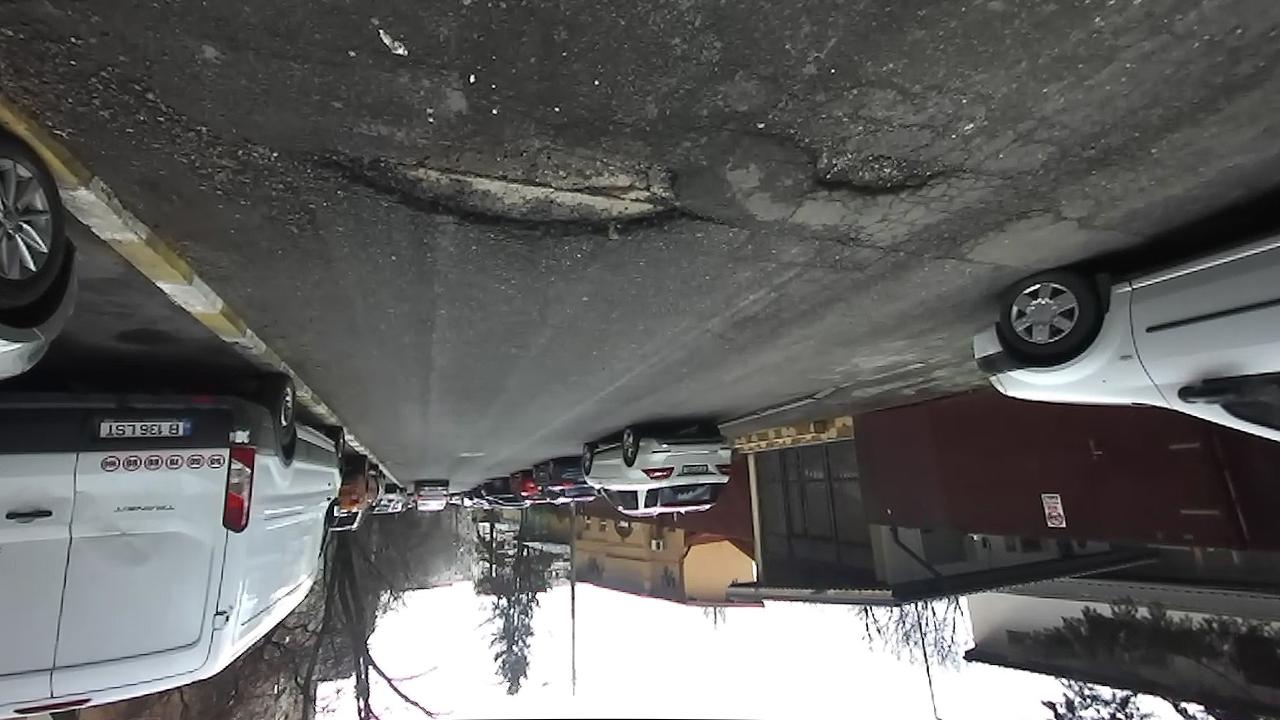pothole: (276, 126, 710, 249), (755, 124, 957, 201)
